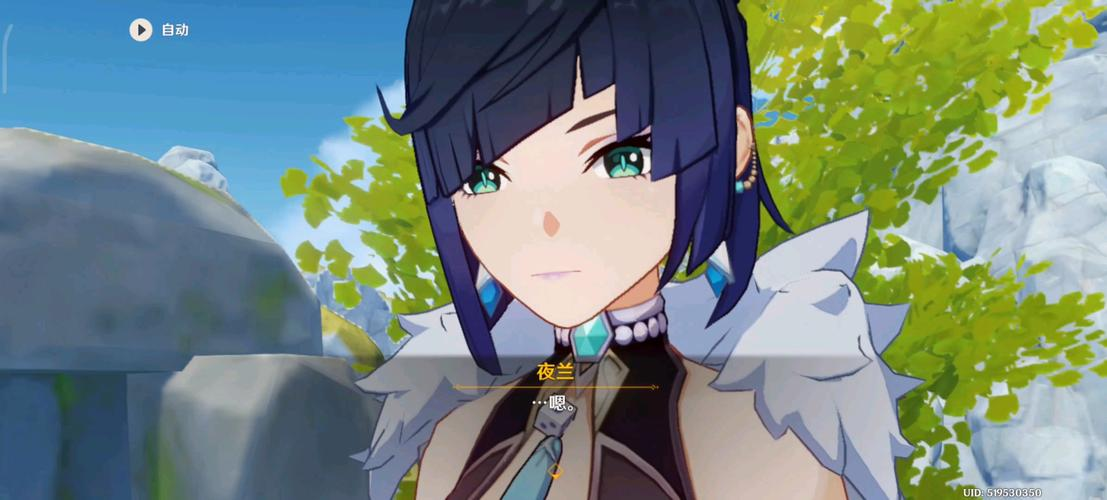夜兰: (365, 3, 884, 500)
